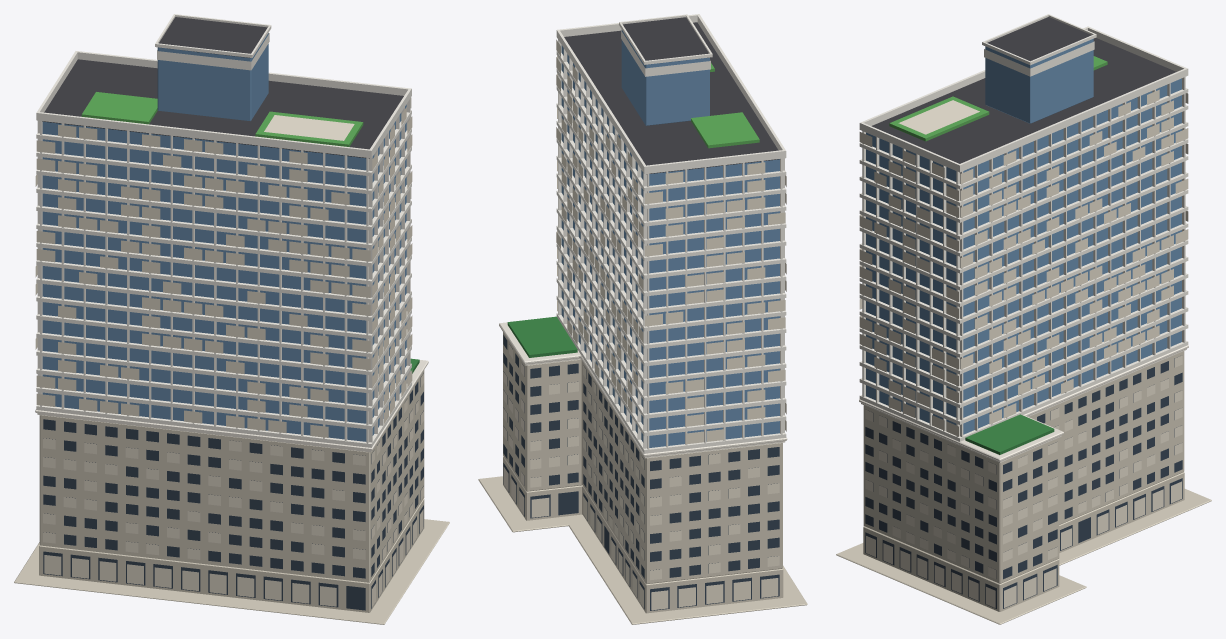
File: one-hawthorne-street.glb
3 views of the same model, side by side, from view 1: azimuth 30°, elevation 25°; view 2: azimuth 150°, elevation 25°; view 3: azimuth 270°, elevation 25° (orthographic). The views are drawn at different scales.
Parts seen in each view (by area): view 1: one-hawthorne-street_body, one-hawthorne-street_night_glow; view 2: one-hawthorne-street_body, one-hawthorne-street_night_glow; view 3: one-hawthorne-street_body, one-hawthorne-street_night_glow.
Part boxes in pixels (box(x1,y1,x2,y2)): one-hawthorne-street_body: box(14, 14, 449, 624); one-hawthorne-street_night_glow: box(35, 33, 424, 607); one-hawthorne-street_body: box(478, 14, 807, 624); one-hawthorne-street_night_glow: box(503, 29, 786, 610); one-hawthorne-street_body: box(836, 14, 1211, 624); one-hawthorne-street_night_glow: box(859, 41, 1188, 607).
Bounding box in the file's own units: 64.79 × 83.9 × 58.39.
